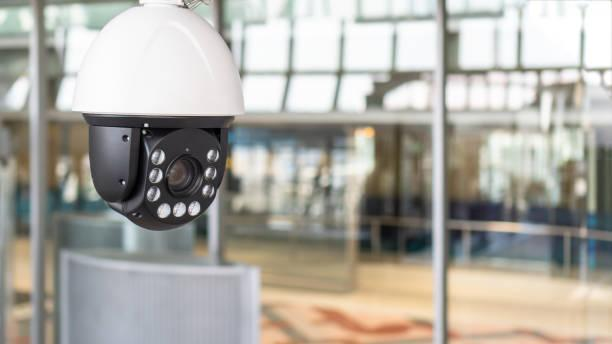camera: (46, 0, 276, 235)
